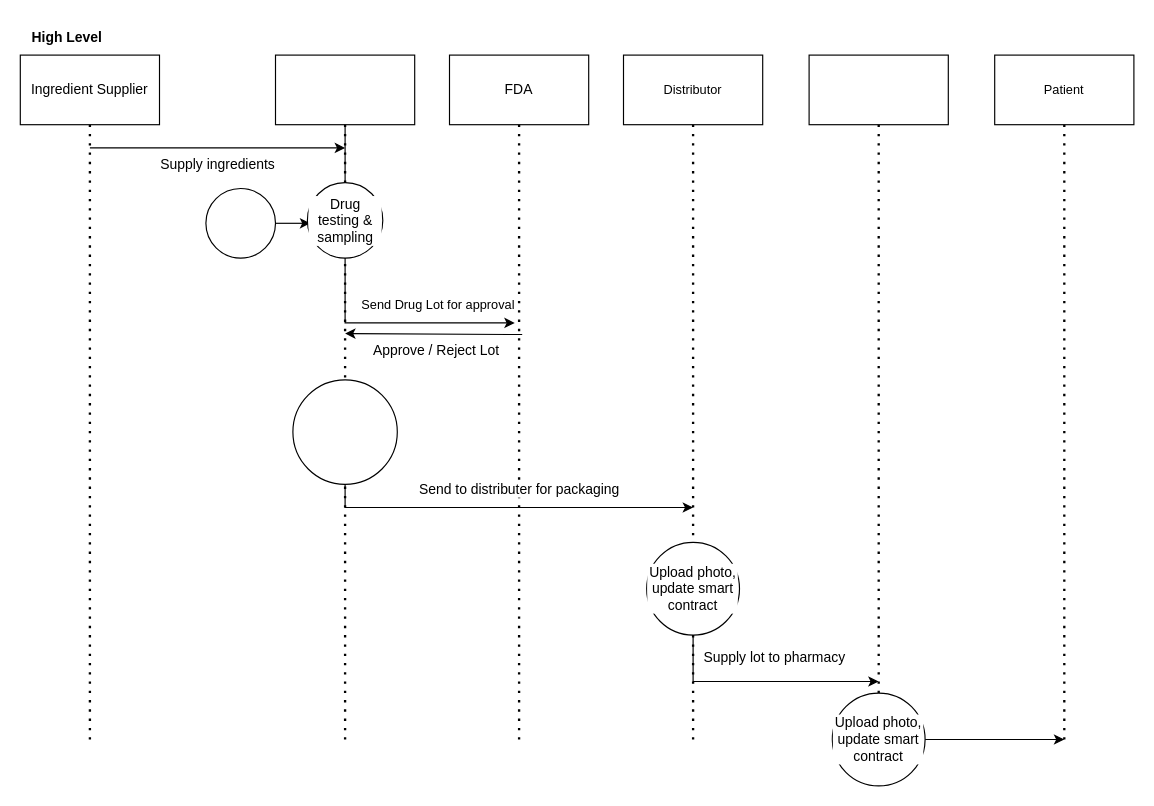
Some shapes in this 1154 by 806 pixel diagram are drawn without their labels. Here are the shapes that lost their labels. From the top down, the centre of each, then its label:
At point 344,89: "Manufacturer".
At point 878,89: "Pharmacy".
At point 240,222: "LMS".
At point 344,431: "Manufacture the lot, store info in smart contract with image".
